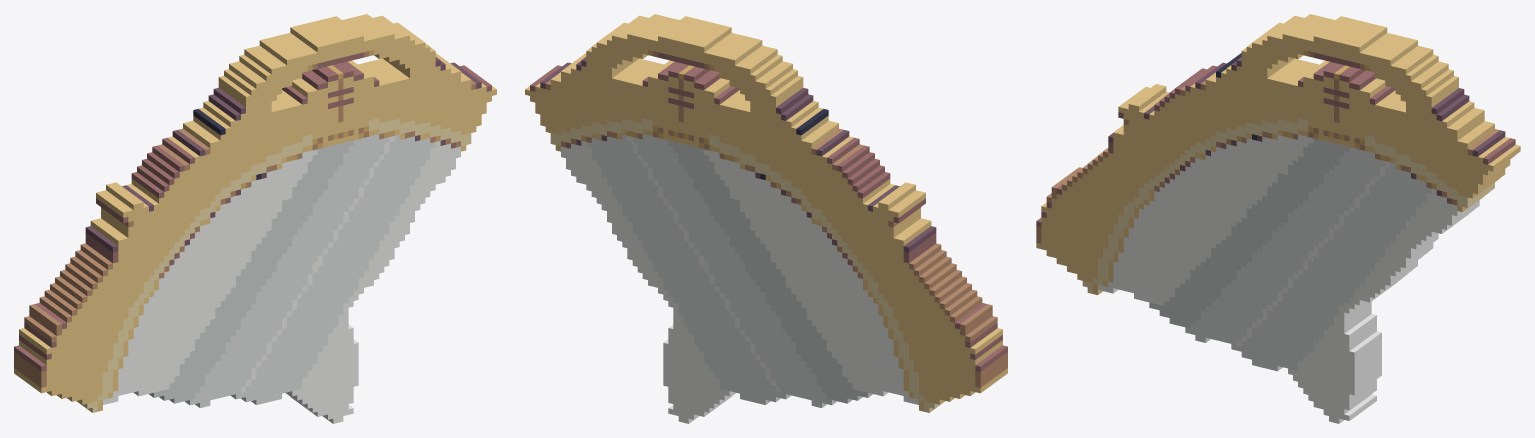
File: mirror shard 5.fbx
The picture shows the model from 3 angles, left to right: view 1: azimuth 30°, elevation 25°; view 2: azimuth 150°, elevation 25°; view 3: azimuth 330°, elevation 25°; orthographic projection.
Visible parts, largest first — view 1: mirror shard 5.png; view 2: mirror shard 5.png; view 3: mirror shard 5.png.
Boxes of the visible parts, x1,y1,x2,y2 form: mirror shard 5.png: (14, 14, 496, 423); mirror shard 5.png: (525, 14, 1007, 423); mirror shard 5.png: (1036, 14, 1520, 423).
Size of the model in its own units: 48.02 by 38.31 by 5.
